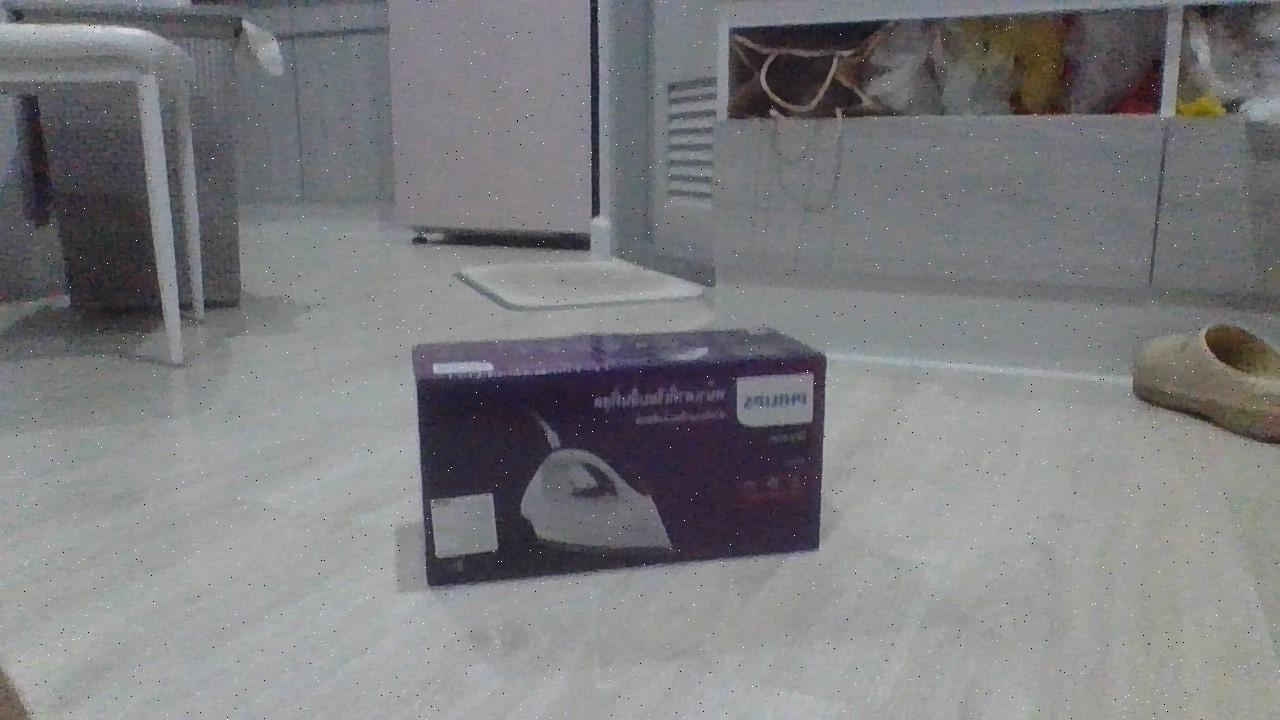IRON: (408, 322, 832, 591)
